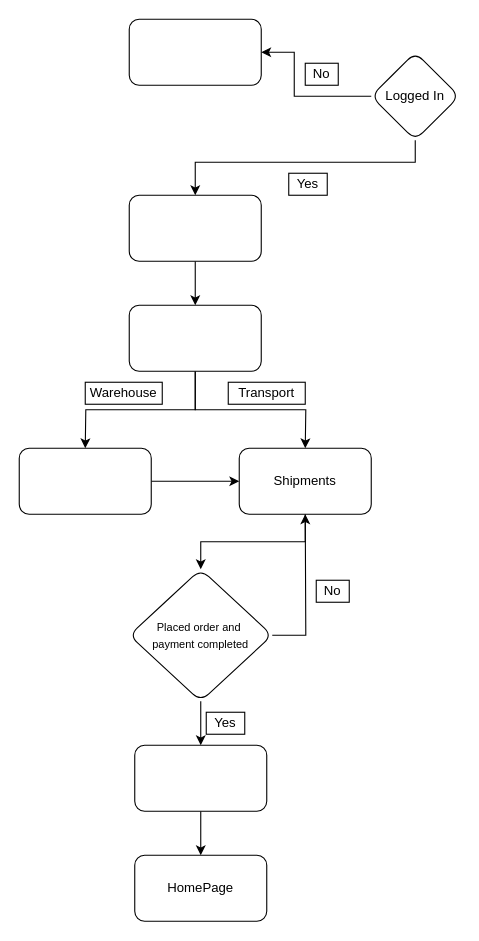
The diagram is 479 pixels wide and 941 high, and some of its shapes have lost their labels. Here are the shapes that lost their labels. From the top down, the box of each, then its label:
(128, 18, 261, 85): HomePage (Not Logged in)
(128, 194, 261, 261): HomePage (Logged in)
(128, 304, 261, 371): Services Page
(18, 447, 151, 514): Inventory
(134, 744, 267, 811): Confirmation Page
